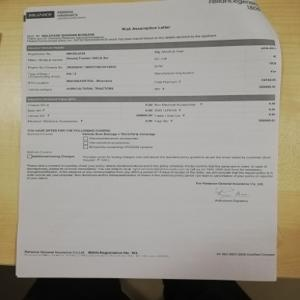image: (25, 9, 56, 20)
table: (24, 95, 279, 150), (26, 38, 280, 93)
text: (25, 164, 276, 179), (119, 21, 172, 32)
